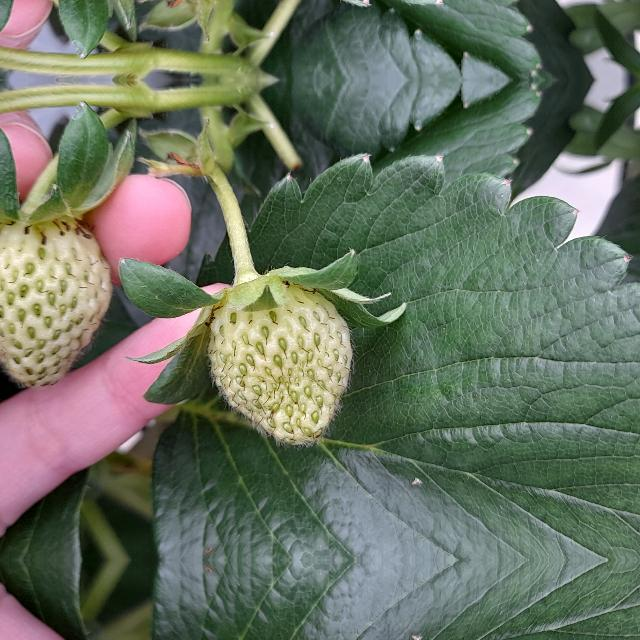Health_25: (208, 282, 352, 444), (0, 200, 110, 392)
